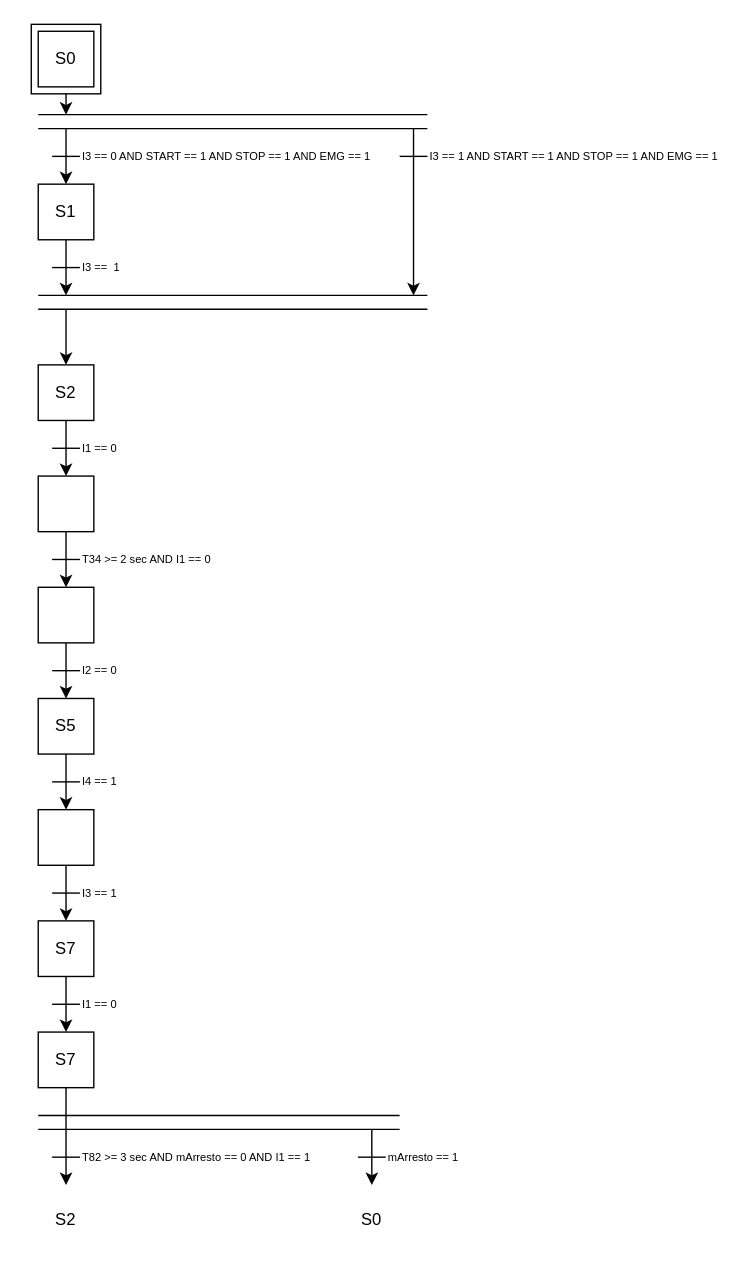
This 742x1265 diagram has some shape labels left out. The shapes that lost their labels are listed below. From the top down, each one's centre as x and y in pixels, then its label:
At point 65,503: "S3".
At point 65,614: "S4".
At point 65,836: "S6".
